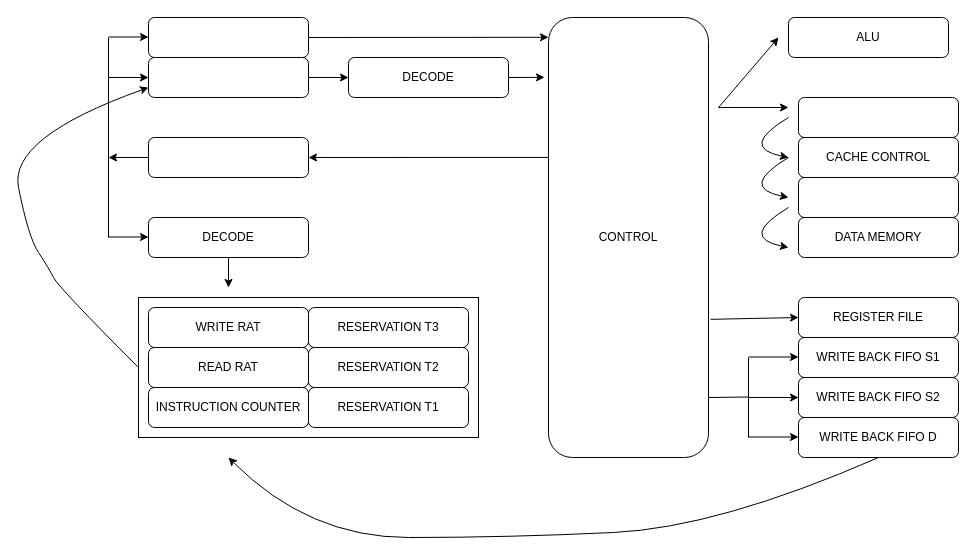
Some shapes in this 976 by 555 pixel diagram are drawn without their labels. The centre of each missing label's shape, as x and y in pixels:
"CACHE" belongs at pixel 878 197.
"INSTRUCTION BUFFER" belongs at pixel 228 77.
"MEMORY BUFFER" belongs at pixel 878 117.
"PC BUFFER" belongs at pixel 228 37.
"PROGRAM MEMORY" belongs at pixel 228 157.
